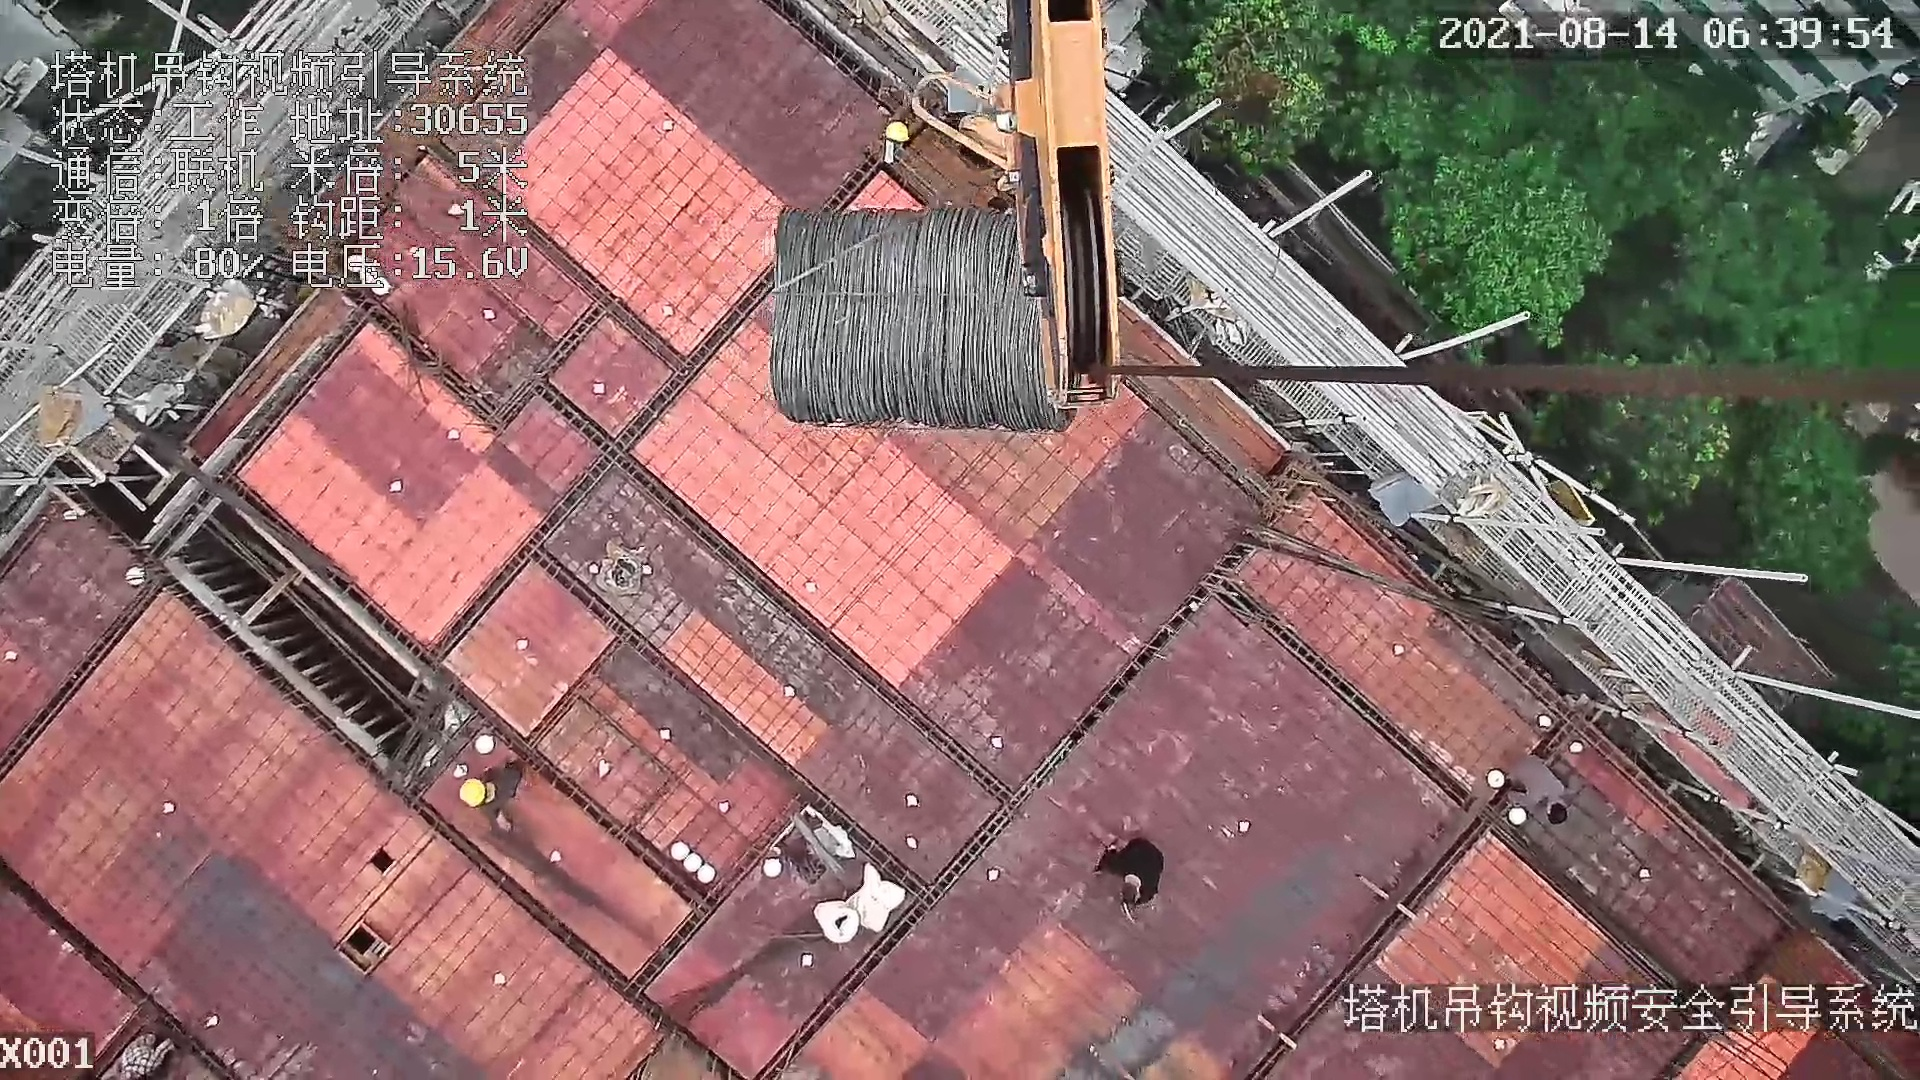helmet: (455, 775, 499, 820)
hook: (913, 1, 1124, 408)
person: (1501, 737, 1576, 830), (1095, 824, 1160, 928), (451, 753, 531, 833)
